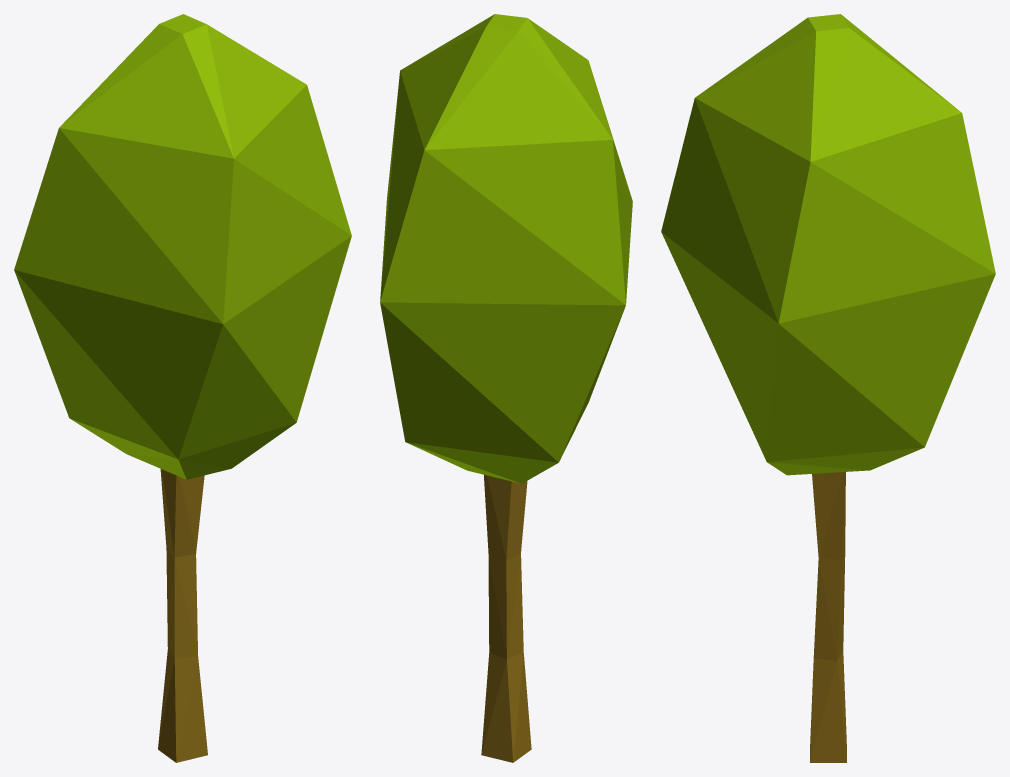
The model's file is tree-2.dae.
3 renders of one model, left to right at view 1: azimuth 30°, elevation 25°; view 2: azimuth 150°, elevation 25°; view 3: azimuth 270°, elevation 25°, orthographic.
Parts seen in each view (by area): view 1: Crown, Bole; view 2: Crown, Bole; view 3: Crown, Bole.
Boxes of the visible parts, bbox=[...] form: Crown: bbox=[14, 14, 351, 479]; Bole: bbox=[158, 469, 207, 762]; Crown: bbox=[380, 14, 632, 483]; Bole: bbox=[481, 475, 531, 762]; Crown: bbox=[661, 14, 995, 475]; Bole: bbox=[810, 472, 846, 762].
Size of the model in its own units: 3.4 by 3.4 by 8.2.
